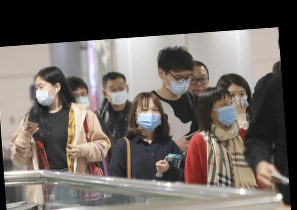with_mask: (135, 105, 162, 132), (164, 72, 193, 96), (215, 96, 237, 127), (33, 81, 55, 108), (107, 81, 128, 107), (228, 89, 248, 109), (73, 90, 90, 111)
without_mask: (186, 72, 209, 98)
